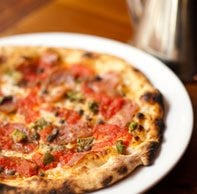sandwich: (0, 44, 169, 188)
